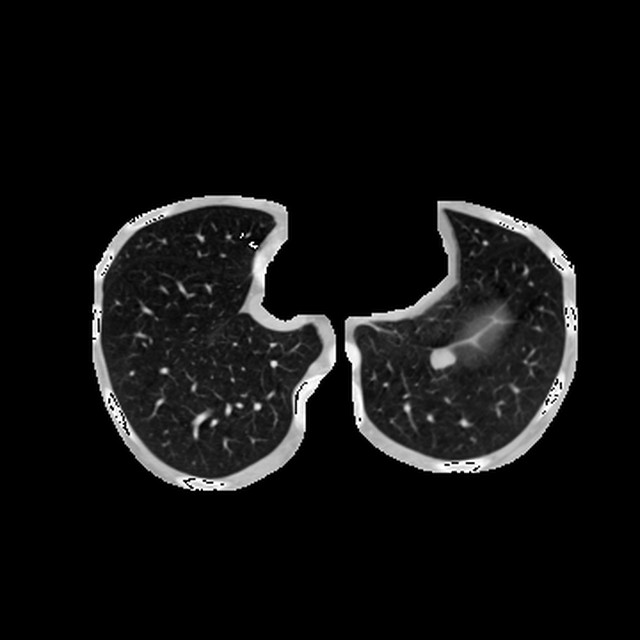PN: (430, 347, 452, 368)
